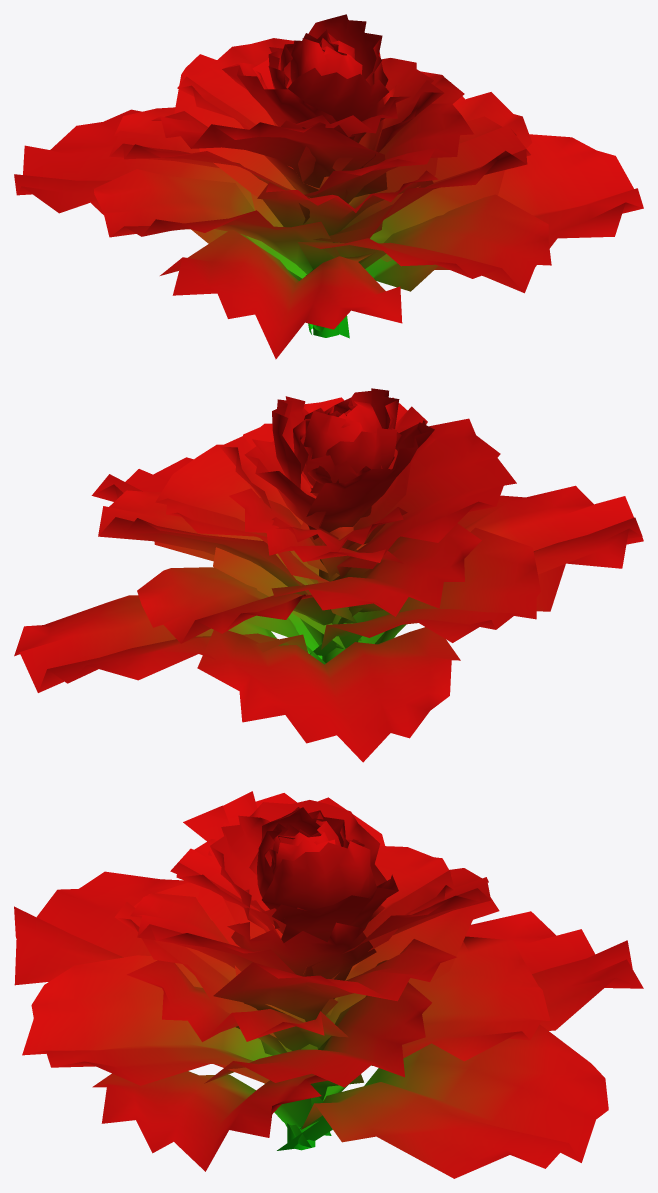
File: Purple Ornamental Kale_LOD1_Var5_ugdieawja.fbx
3 renders of one model, top to bottom at view 1: azimuth 30°, elevation 25°; view 2: azimuth 150°, elevation 25°; view 3: azimuth 270°, elevation 25°, orthographic. The views are drawn at different scales.
Parts seen in each view (by area): view 1: _36af_Var5_LOD1; view 2: _36af_Var5_LOD1; view 3: _36af_Var5_LOD1.
Boxes of the visible parts, <box> form: _36af_Var5_LOD1: <box>14,14,643,359</box>; _36af_Var5_LOD1: <box>14,388,643,762</box>; _36af_Var5_LOD1: <box>14,791,643,1178</box>.
Bounding box in the file's own units: 42.75 × 25.23 × 44.23.
